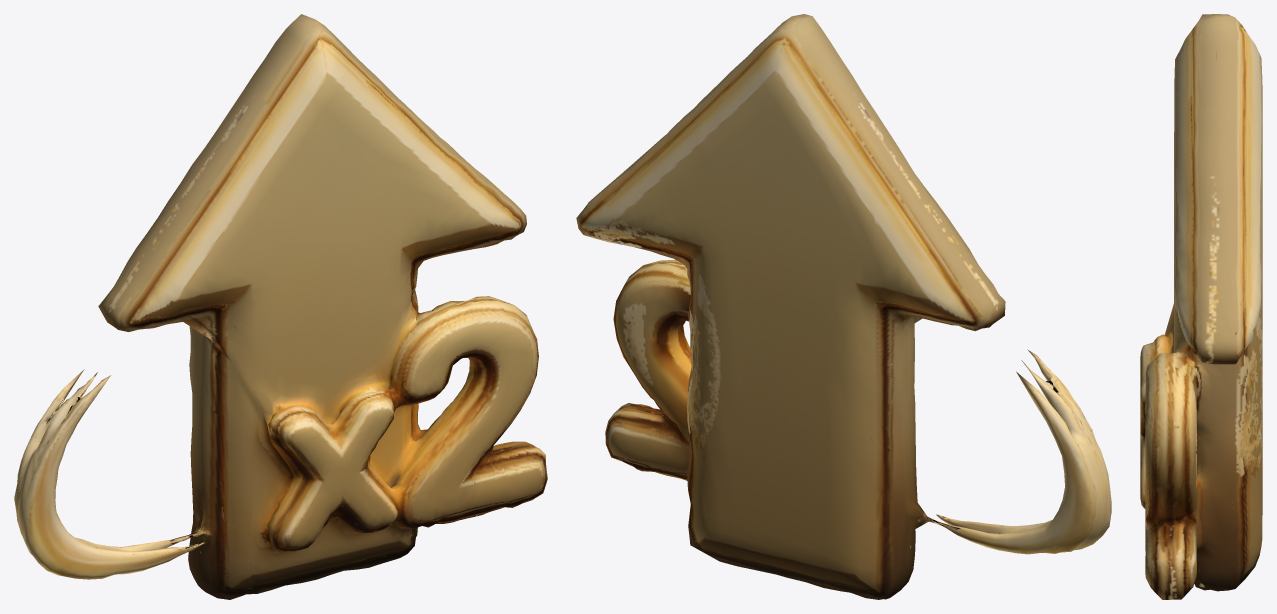
File: Multiplier.fbx
3 views of the same model, side by side, from view 1: azimuth 30°, elevation 25°; view 2: azimuth 150°, elevation 25°; view 3: azimuth 270°, elevation 25° (orthographic). The views are drawn at different scales.
Parts seen in each view (by area): view 1: RETOPO; view 2: RETOPO; view 3: RETOPO.
Boxes of the visible parts, x1,y1,x2,y2 form: RETOPO: (14, 14, 547, 599); RETOPO: (576, 14, 1111, 599); RETOPO: (1140, 14, 1262, 599).
Bounding box in the file's own units: 82.49 × 85.52 × 17.69.
Materials: 1 (1 with a texture image).
